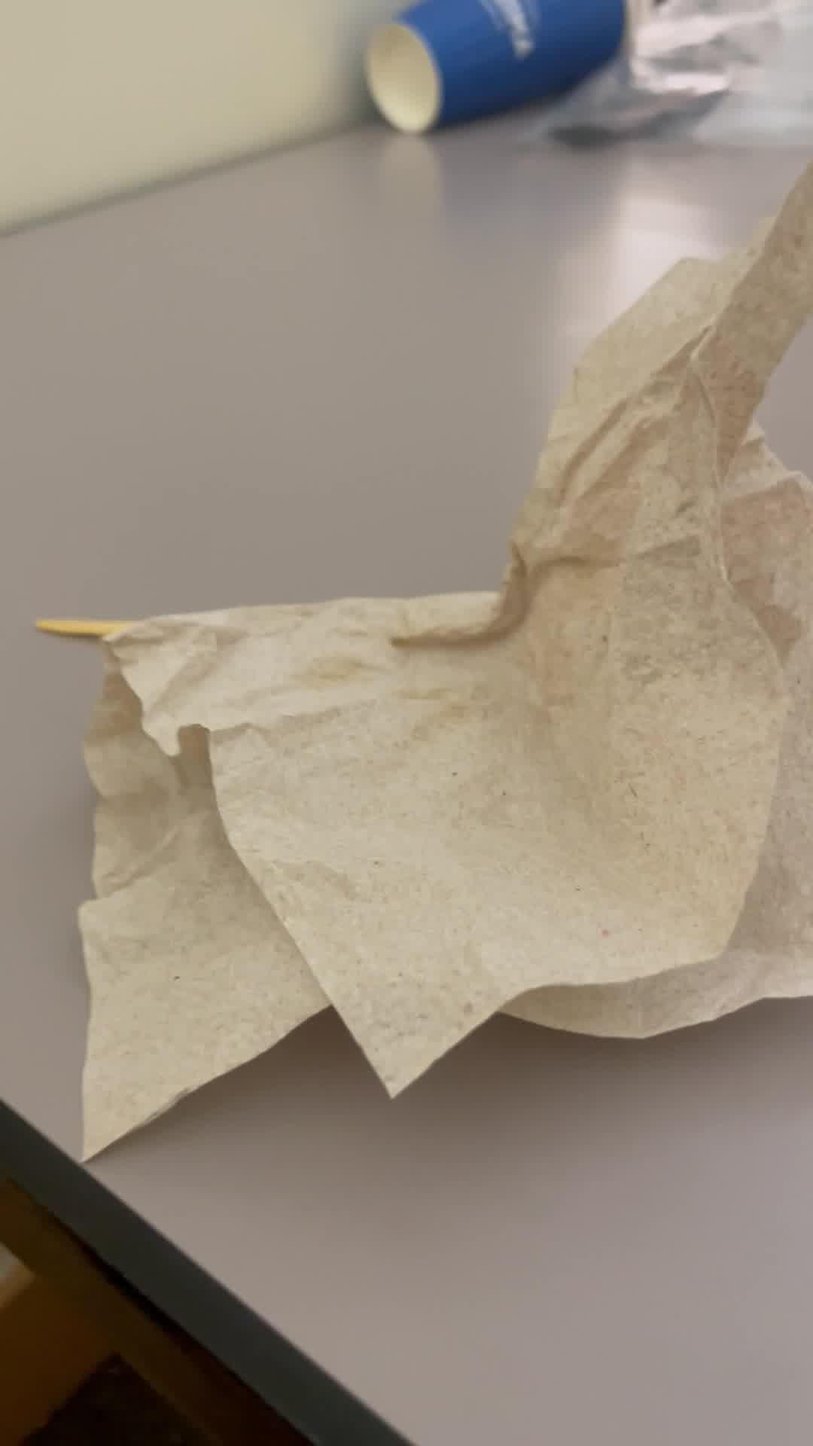lp_paper_cup: (339, 0, 661, 134)
napkin: (0, 140, 813, 1184)
